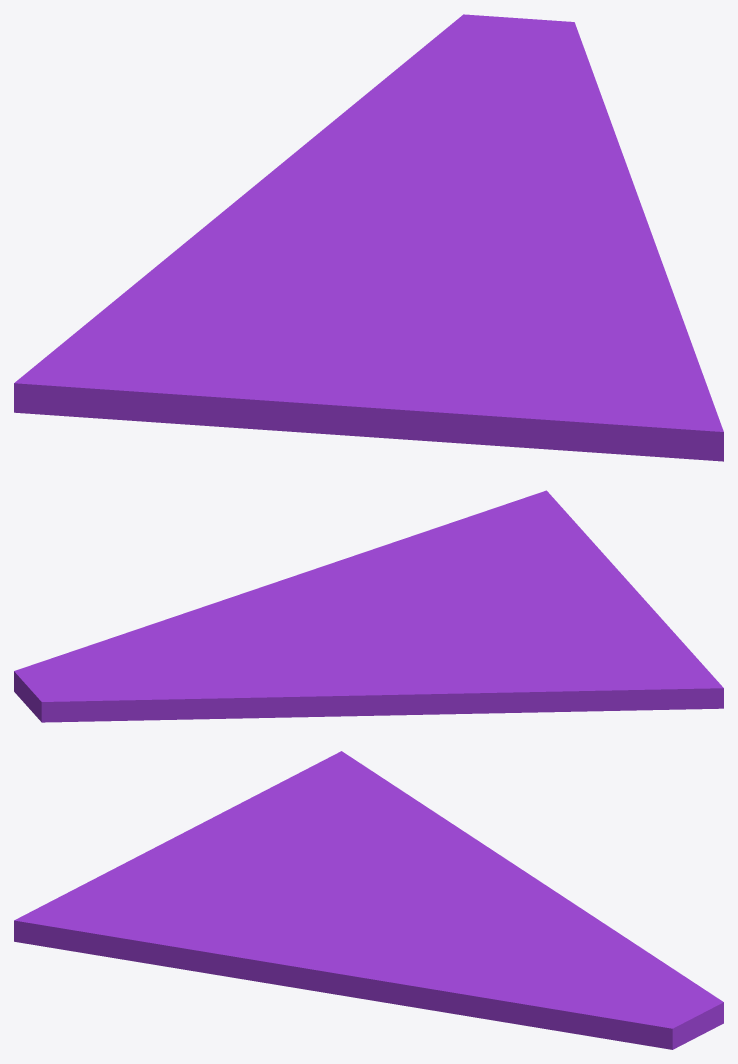
File: StairsStep_22_chunks.fbx
The picture shows the model from 3 angles, top to bottom: view 1: azimuth 30°, elevation 25°; view 2: azimuth 150°, elevation 25°; view 3: azimuth 270°, elevation 25°; orthographic projection. The views are drawn at different scales.
Parts seen in each view (by area): view 1: StairsStep_22_2, StairsStep_22_0, StairsStep_22_3; view 2: StairsStep_22_2, StairsStep_22_0, StairsStep_22_3; view 3: StairsStep_22_2, StairsStep_22_3, StairsStep_22_0.
Part boxes in pixels (left/top/right/bottom): StairsStep_22_2: left=161, top=214, right=723, bottom=461; StairsStep_22_0: left=14, top=125, right=449, bottom=422; StairsStep_22_3: left=329, top=14, right=646, bottom=219; StairsStep_22_2: left=270, top=490, right=683, bottom=643; StairsStep_22_0: left=246, top=636, right=723, bottom=717; StairsStep_22_3: left=14, top=584, right=330, bottom=722; StairsStep_22_2: left=14, top=789, right=433, bottom=998; StairsStep_22_3: left=356, top=926, right=723, bottom=1049; StairsStep_22_0: left=267, top=751, right=608, bottom=926.
Bounding box in the file's own units: 504 × 17.94 × 544.
